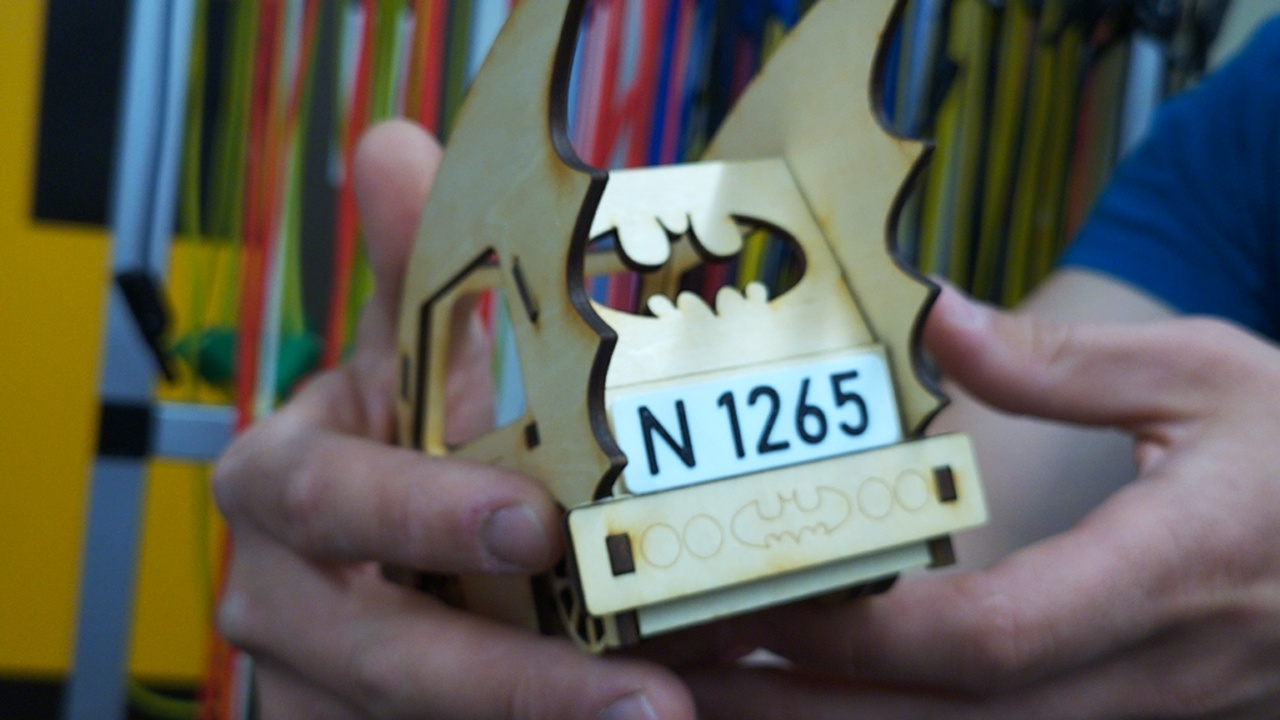license_plate: (608, 348, 906, 498)
